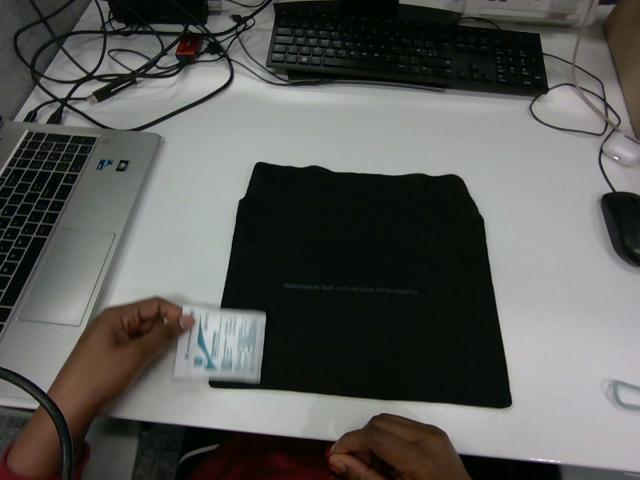gauze: (175, 306, 265, 384)
